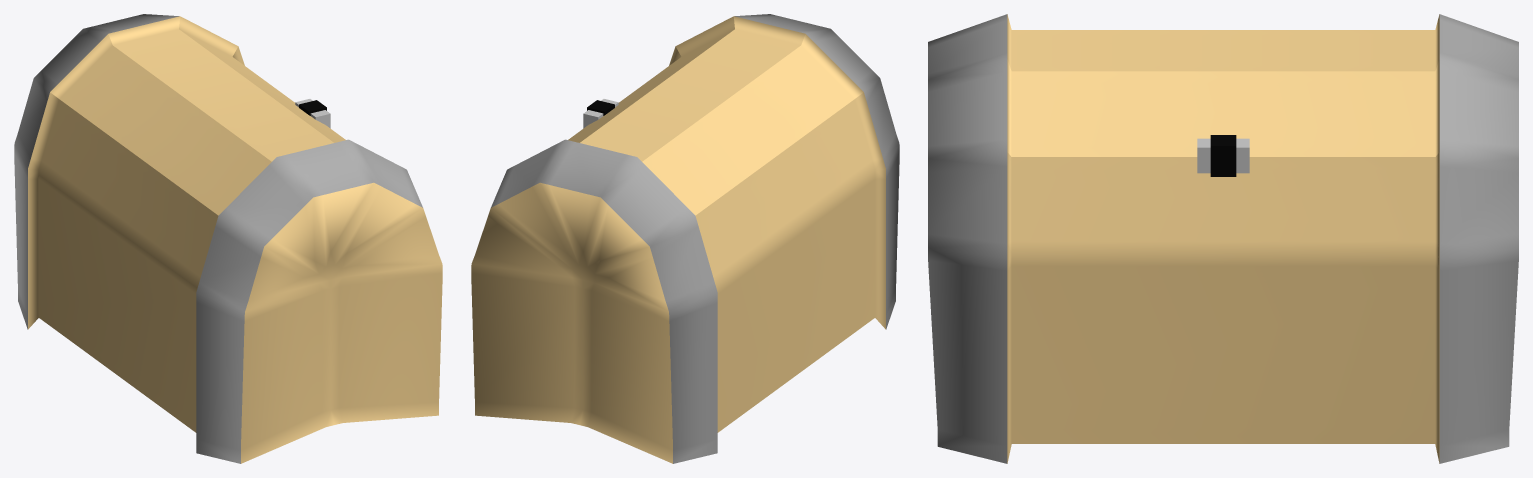
Rendered from Chest.fbx.
3 renders of one model, left to right at view 1: azimuth 30°, elevation 25°; view 2: azimuth 150°, elevation 25°; view 3: azimuth 270°, elevation 25°, orthographic. The views are drawn at different scales.
Parts seen in each view (by area): view 1: pCylinder1; view 2: pCylinder1; view 3: pCylinder1, pCube2, pCube1.
Part boxes in pixels (<box>): pCylinder1: <box>14,14,442,463</box>; pCylinder1: <box>471,14,899,463</box>; pCylinder1: <box>928,14,1518,463</box>; pCube2: <box>1210,135,1236,176</box>; pCube1: <box>1197,138,1249,173</box>.
Bounding box in the file's own units: 2.76 × 3.13 × 4.73.
